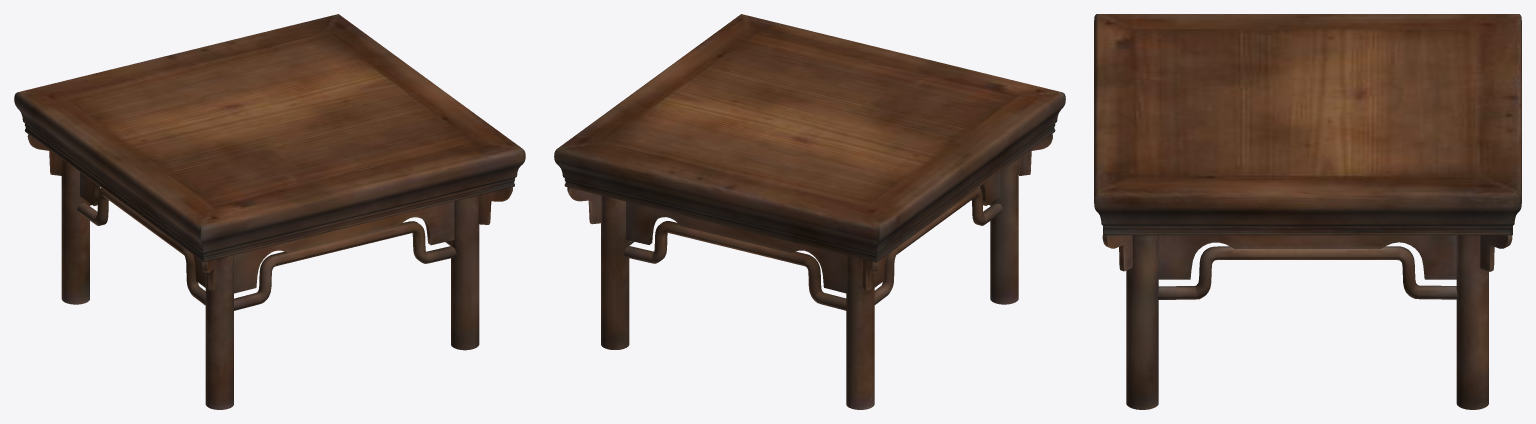
3 views of the same model, side by side, from view 1: azimuth 30°, elevation 25°; view 2: azimuth 150°, elevation 25°; view 3: azimuth 270°, elevation 25° (orthographic). The views are drawn at different scales.
Parts seen in each view (by area): view 1: chinese_tea_table; view 2: chinese_tea_table; view 3: chinese_tea_table.
Part boxes in pixels (box(x1,y1,x2,y2)): chinese_tea_table: box(14, 14, 525, 409); chinese_tea_table: box(554, 14, 1065, 409); chinese_tea_table: box(1094, 14, 1521, 409).
Bounding box in the file's own units: 0.8413 × 0.4986 × 0.8356.
1 material, 1 textured.
